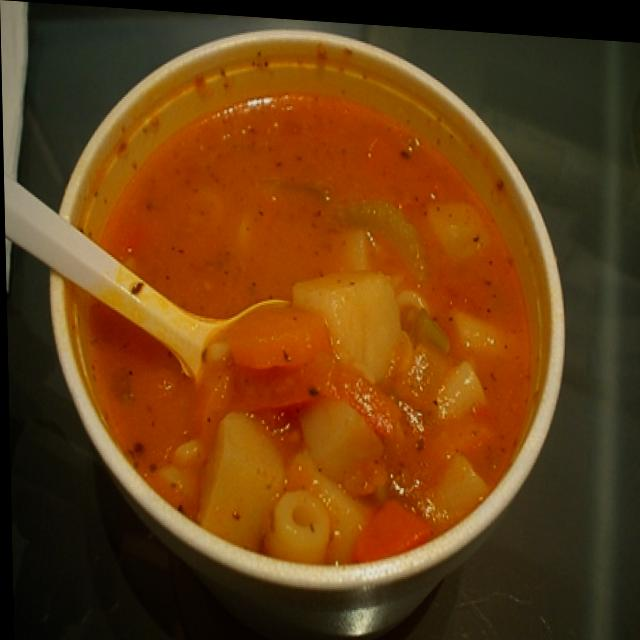汤锅炖物: (33, 2, 579, 630)
